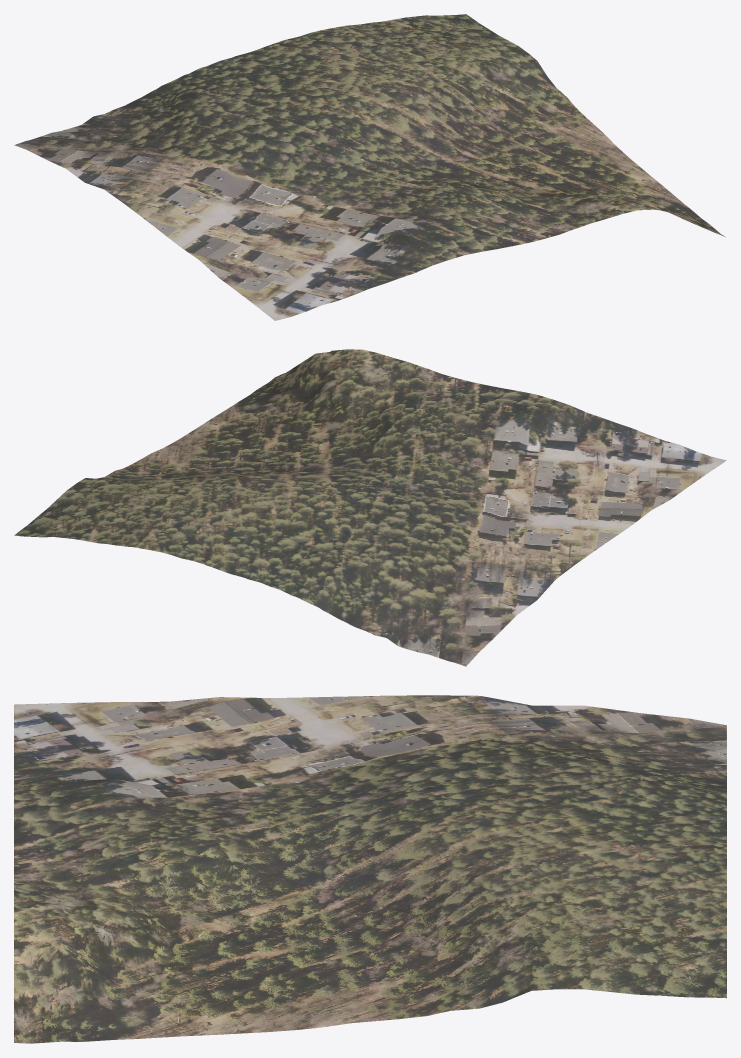
File: CM_Terrain_24491892_6817132.fbx
3 renders of one model, top to bottom at view 1: azimuth 30°, elevation 25°; view 2: azimuth 150°, elevation 25°; view 3: azimuth 270°, elevation 25°, orthographic. The views are drawn at different scales.
Visible parts, largest first — view 1: CM_Terrain_24491892_6817132_LOD0; view 2: CM_Terrain_24491892_6817132_LOD0; view 3: CM_Terrain_24491892_6817132_LOD0.
Part boxes in pixels (x1,y1,x2,y2): CM_Terrain_24491892_6817132_LOD0: [14, 14, 725, 320]; CM_Terrain_24491892_6817132_LOD0: [14, 349, 726, 666]; CM_Terrain_24491892_6817132_LOD0: [14, 695, 726, 1043].
Size of what is drawn, in the model's own units: 205 by 26.76 by 205.
